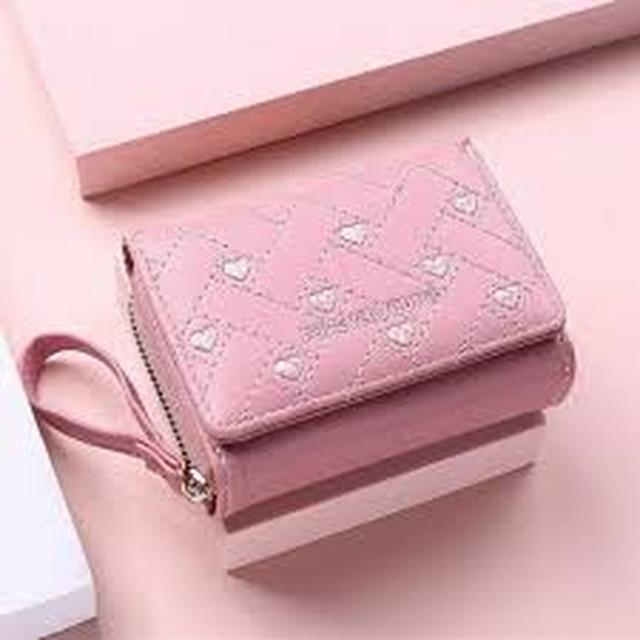wallet: (56, 144, 604, 514)
